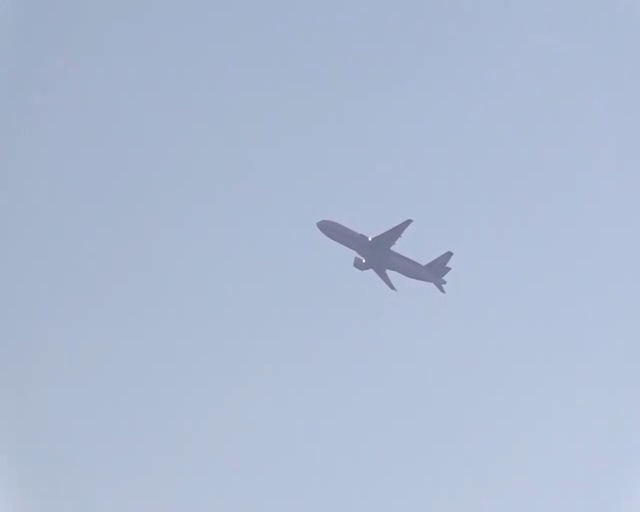AIRPLANE: (315, 216, 453, 293)
